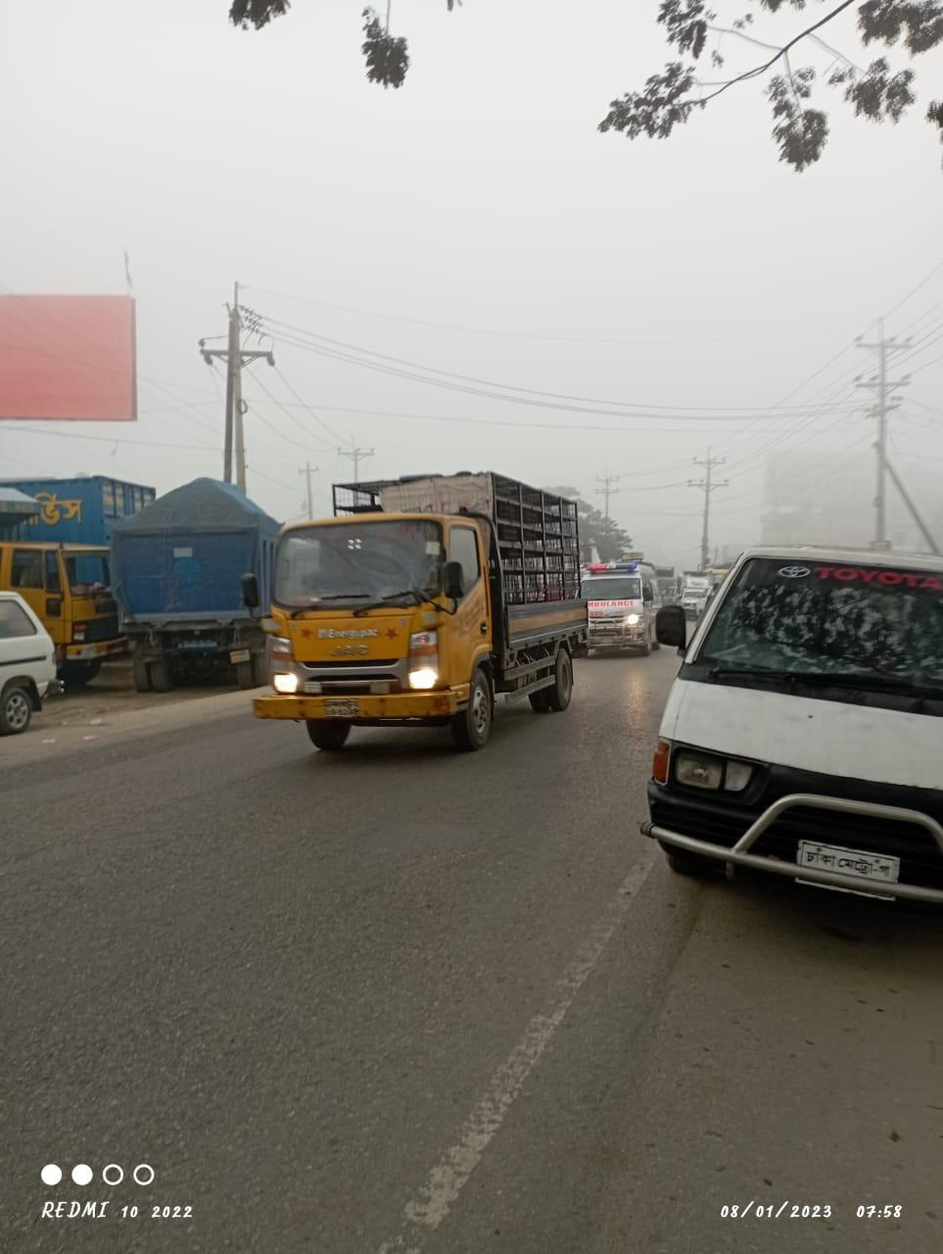Car: (648, 524, 940, 933), (580, 553, 663, 673)
Truck: (236, 458, 586, 745), (95, 473, 270, 665)
